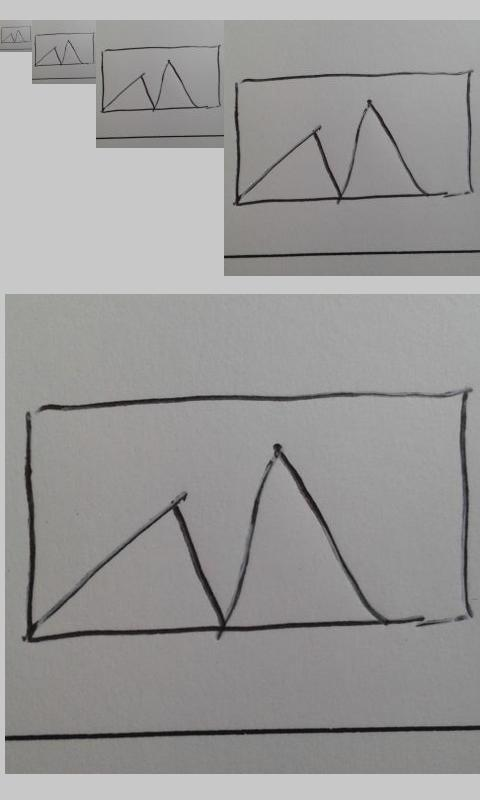image_view: (23, 390, 468, 642), (231, 69, 472, 207), (100, 46, 220, 113), (34, 32, 95, 67), (1, 26, 32, 44)
